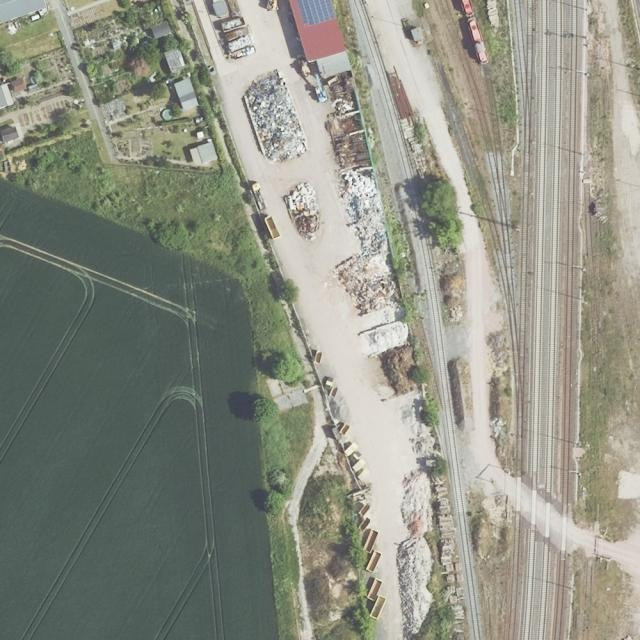PV: (297, 0, 336, 28)
